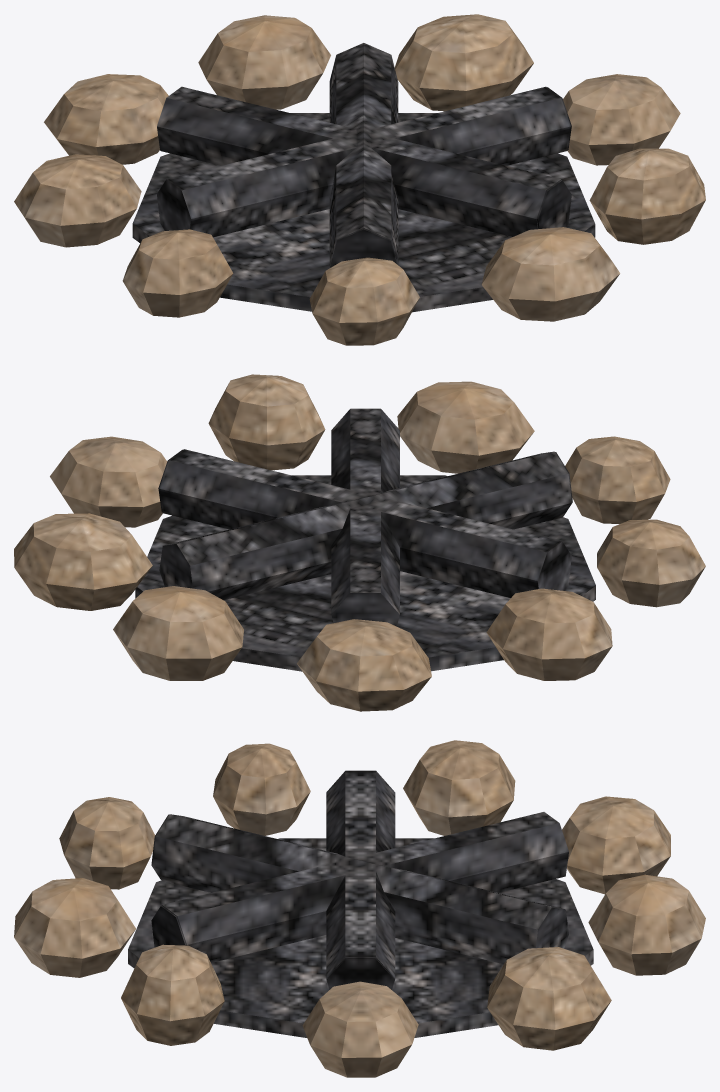
Rendered from campfire_r2.glb.
The picture shows the model from 3 angles, top to bottom: view 1: azimuth 30°, elevation 25°; view 2: azimuth 150°, elevation 25°; view 3: azimuth 270°, elevation 25°; orthographic projection.
Bounding box in the file's own units: 0.8861 × 0.1284 × 0.8781.
Materials: 3 (3 with a texture image).
